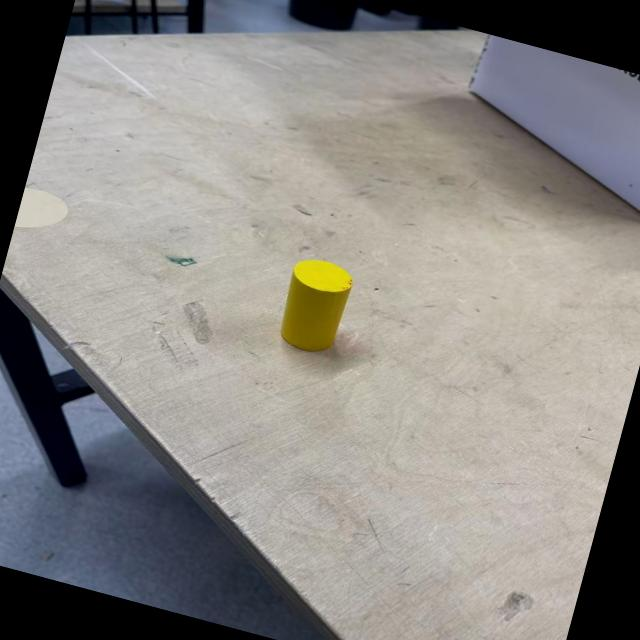yellow_cylinder: (271, 252, 357, 358)
